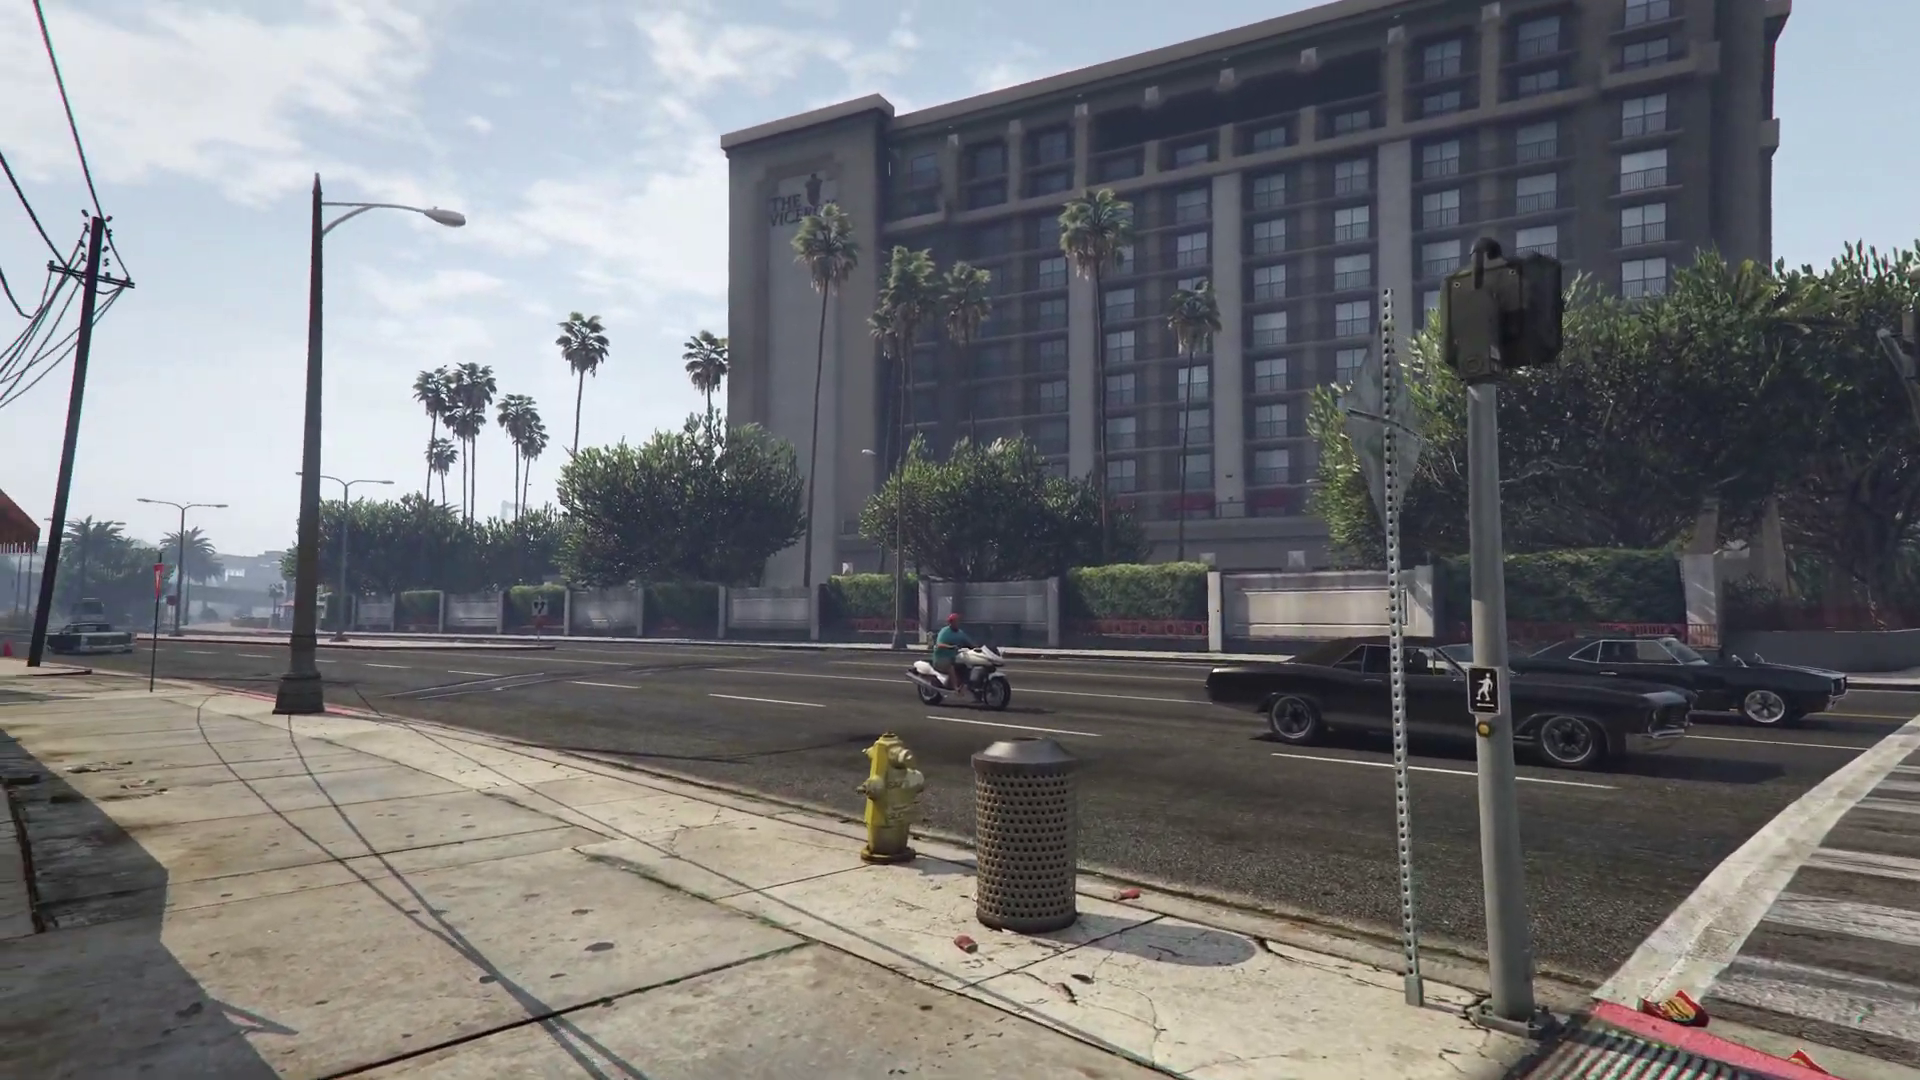car: (1208, 635, 1694, 764), (1527, 636, 1849, 727), (47, 621, 134, 654)
person: (932, 613, 972, 698)
traffic light: (1447, 243, 1563, 382)
